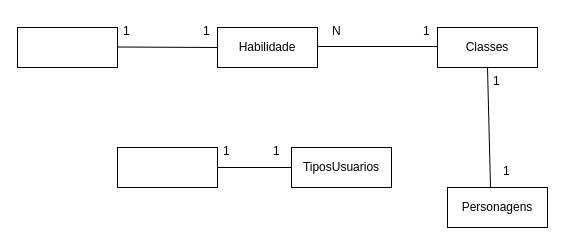
Image size: 565x245. Some labels were removed from this diagram. The shapes that lost their labels are listed below. From the top down, each one's centre as x and y in pixels, then its label:
At pixel 67 47: "Tipo".
At pixel 167 167: "Usuarios".
